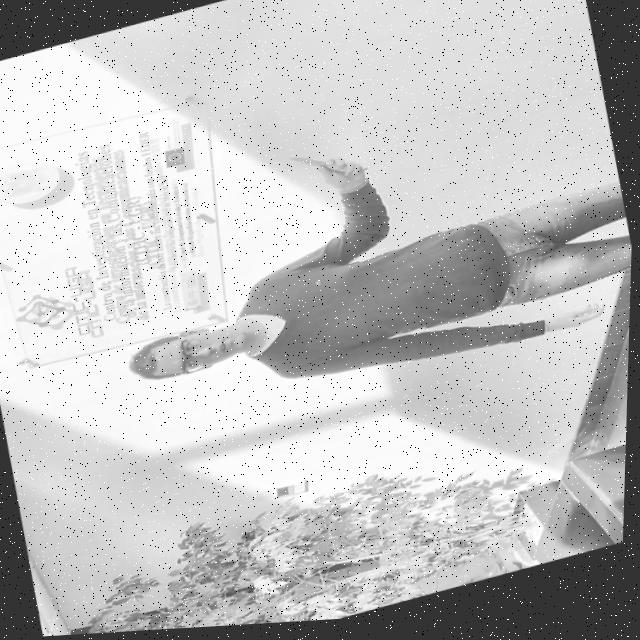knife: (289, 150, 330, 180)
